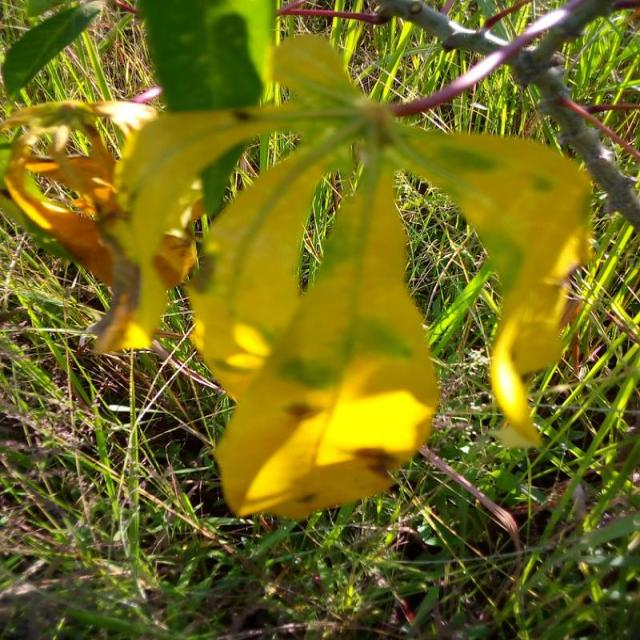cassava leaf: (106, 29, 594, 520), (208, 147, 441, 522)
